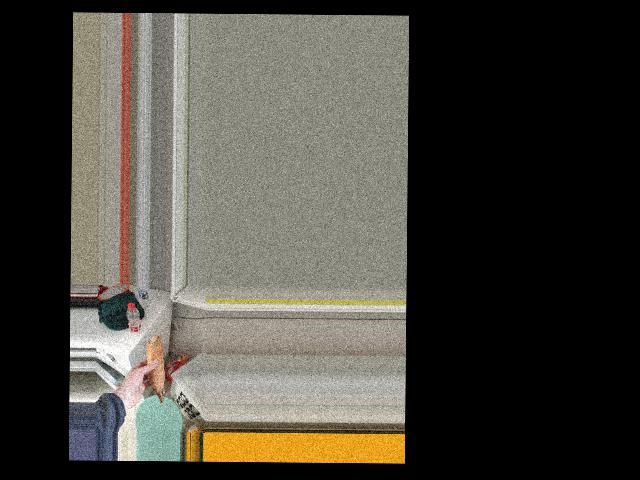sweet_potato: (141, 332, 169, 404)
